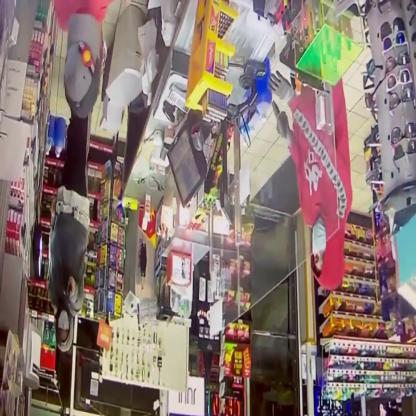Pistol: (268, 92, 290, 148), (62, 275, 76, 315)
